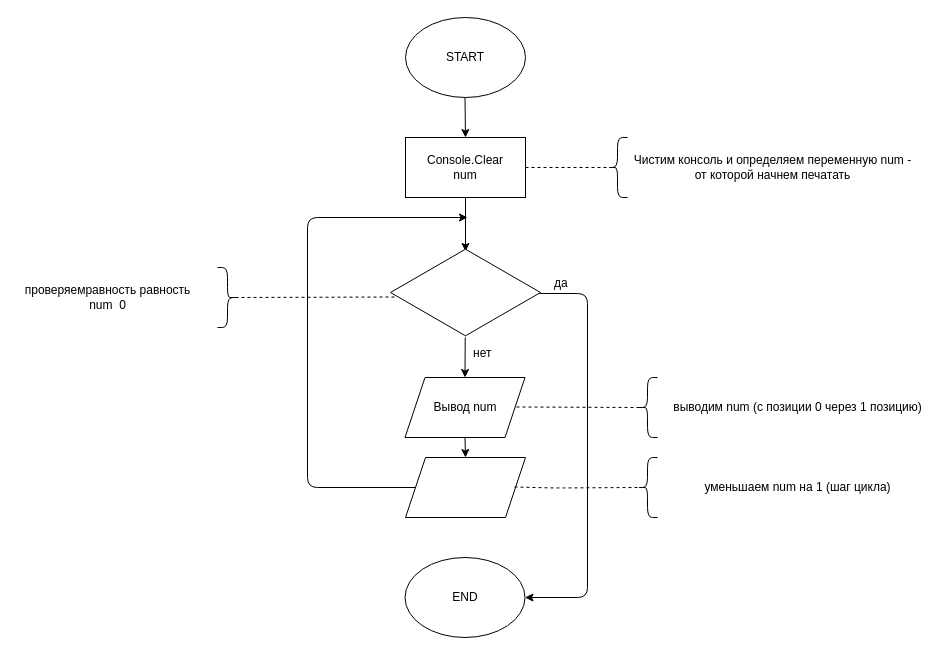
Image size: 944x655. Some labels were removed from this diagram. Here are the shapes that lost their labels. From the top down, the centre of each, then its label:
At pixel 465 292: "num == 0".
At pixel 465 487: "num = num - 1".
